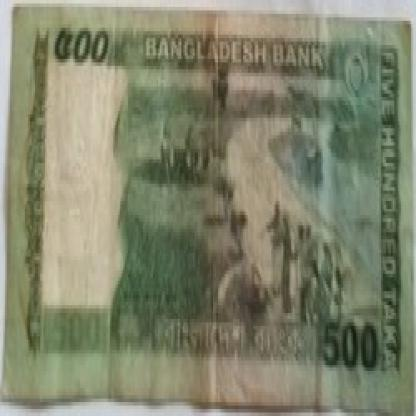500 taka: (40, 24, 120, 76)
currency: (3, 3, 414, 416)
